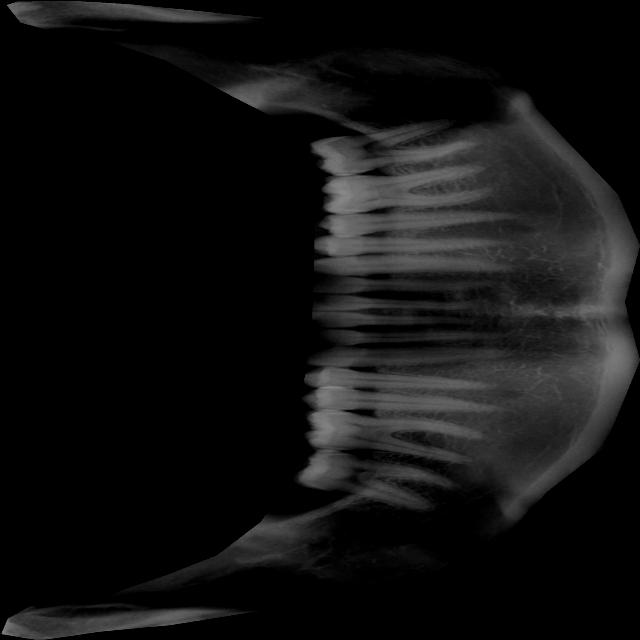mandibula: (1, 0, 640, 640)
